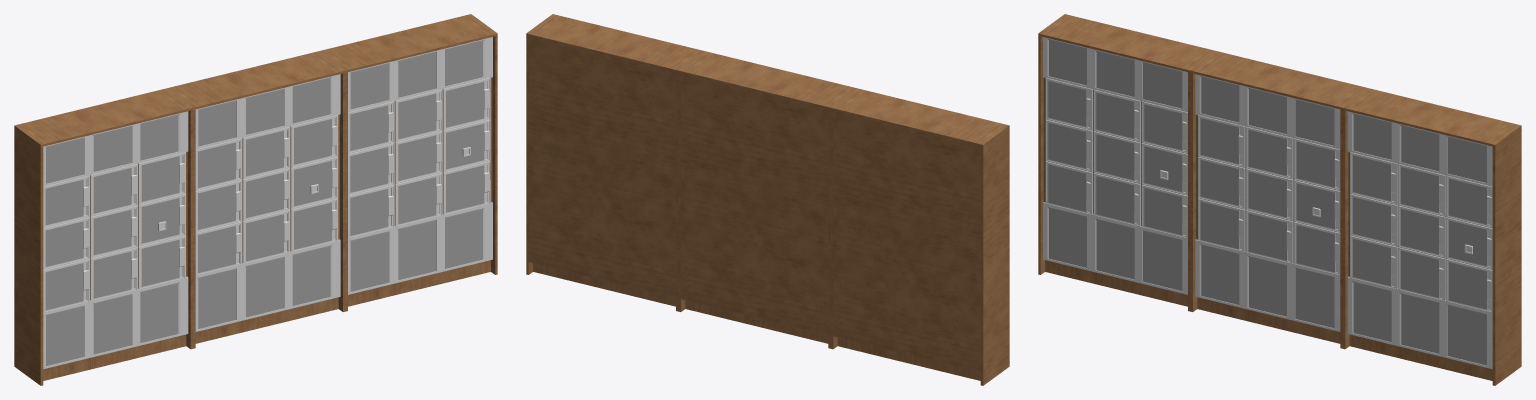
Rendered from Locker.fbx.
3 views of the same model, side by side, from view 1: azimuth 30°, elevation 25°; view 2: azimuth 150°, elevation 25°; view 3: azimuth 330°, elevation 25° (orthographic).
Parts seen in each view (by area): view 1: Locker; view 2: Locker; view 3: Locker.
Part boxes in pixels (x1=…): Locker: x1=14, y1=14, x2=497, y2=385; Locker: x1=526, y1=14, x2=1009, y2=385; Locker: x1=1038, y1=14, x2=1521, y2=385.
Size of the model in its own units: 373 by 188 by 37.54.
